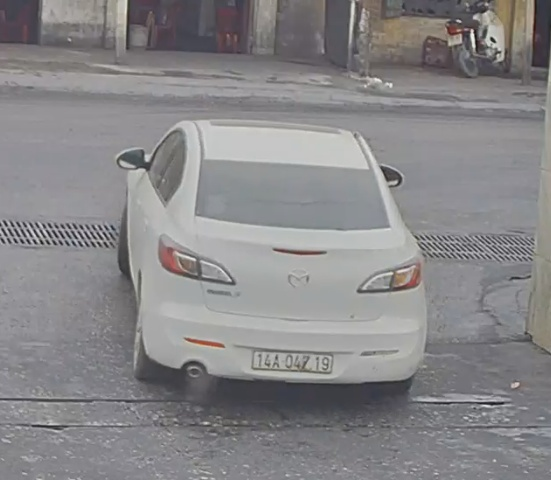vehicle plate: (248, 344, 333, 376)
